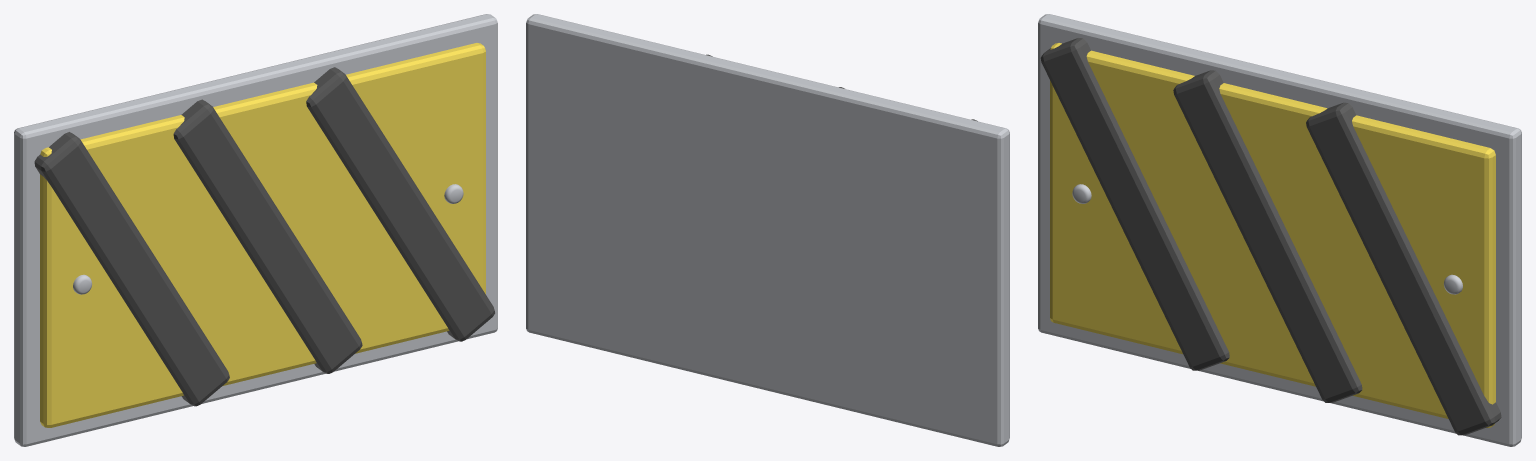
Rendered from знак опасности.glb.
The picture shows the model from 3 angles, left to right: view 1: azimuth 30°, elevation 25°; view 2: azimuth 150°, elevation 25°; view 3: azimuth 330°, elevation 25°; orthographic projection.
Parts seen in each view (by area): view 1: знак_опасности; view 2: знак_опасности; view 3: знак_опасности.
Boxes of the visible parts, <box> form: знак_опасности: <box>14,14,497,446</box>; знак_опасности: <box>526,14,1009,446</box>; знак_опасности: <box>1038,14,1521,446</box>.
Size of the model in its own units: 1.08 by 0.68 by 0.08.
